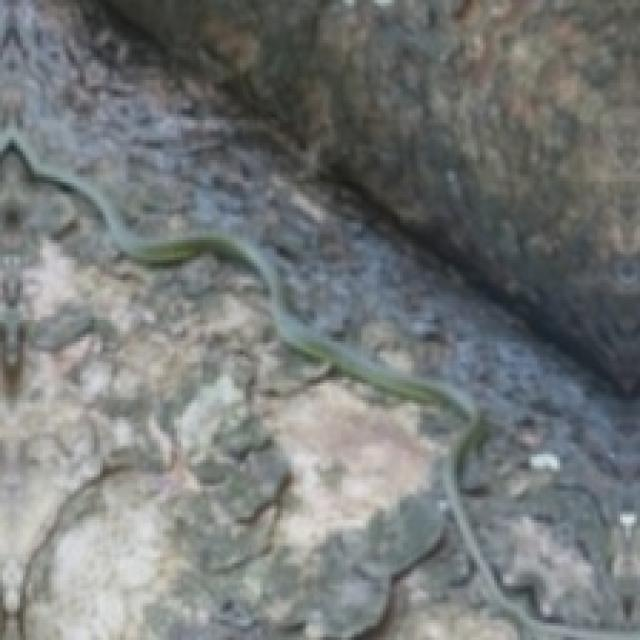paradise tree snake: (0, 129, 637, 637)
